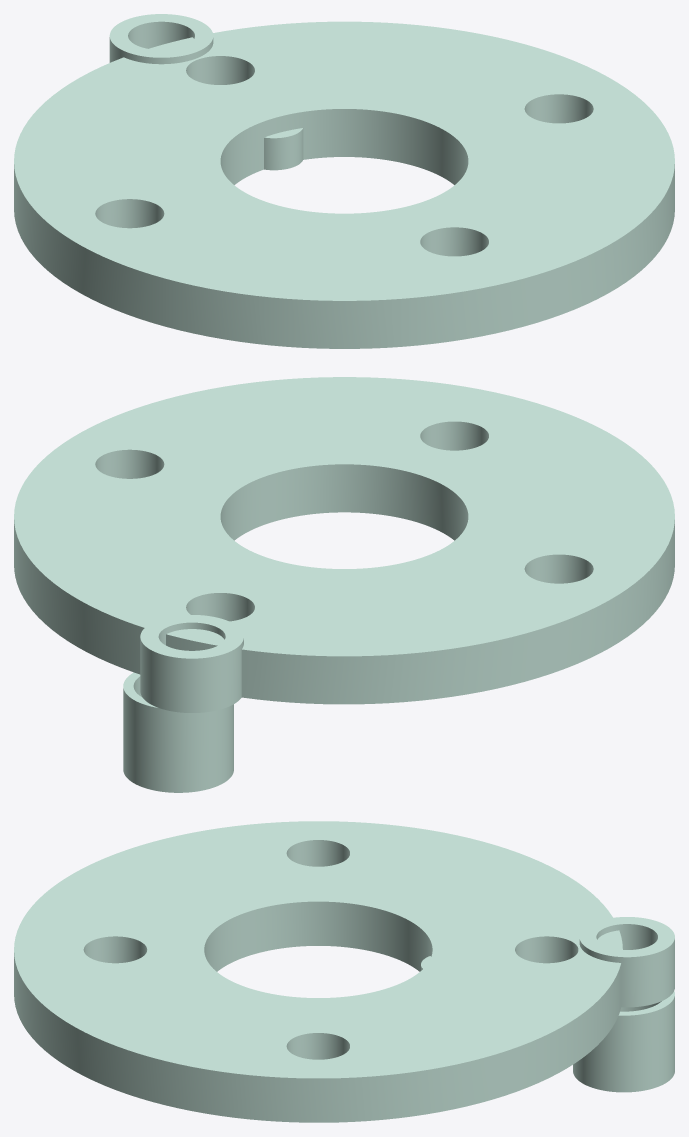
3 renders of one model, top to bottom at view 1: azimuth 30°, elevation 25°; view 2: azimuth 150°, elevation 25°; view 3: azimuth 270°, elevation 25°, orthographic. The views are drawn at different scales.
Visible parts, largest first — view 1: Renderer Node; view 2: Renderer Node; view 3: Renderer Node.
Part boxes in pixels (x1,y1,x2,y2): Renderer Node: (14,14,674,348); Renderer Node: (14,377,674,792); Renderer Node: (14,821,674,1122).
Bounding box in the file's own units: 1.46 × 0.3359 × 1.59.
